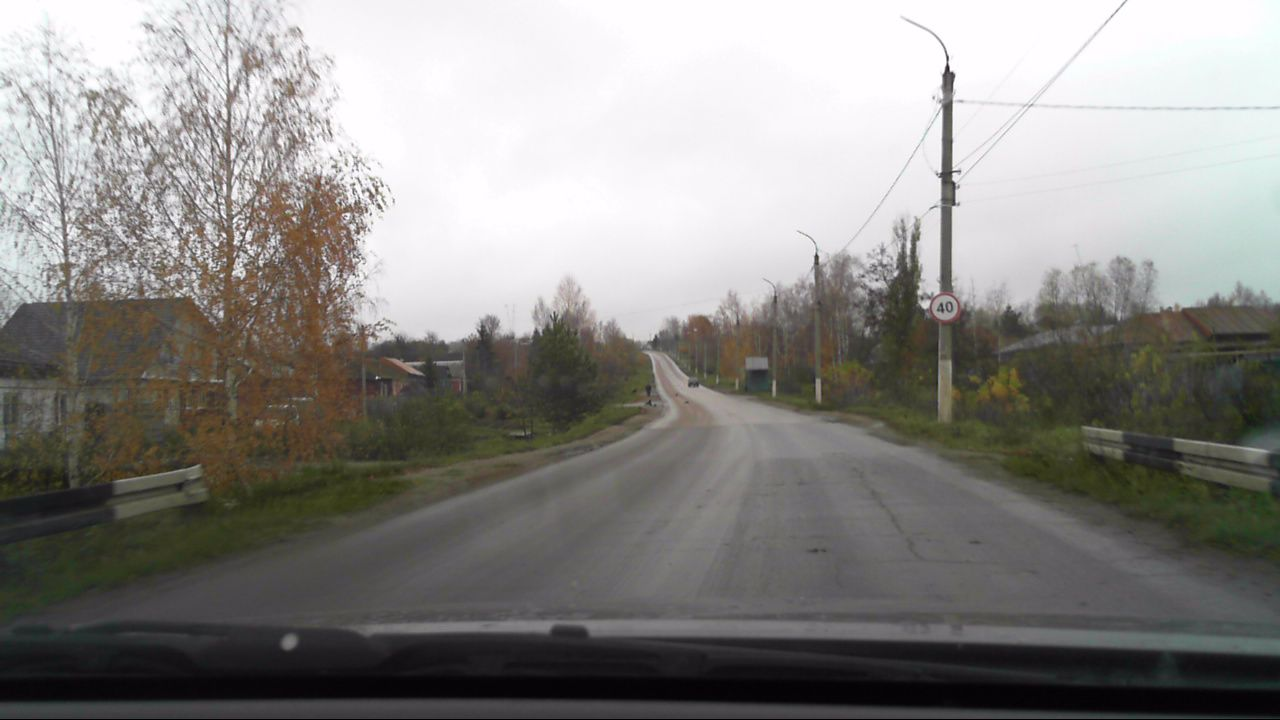speed_warning_40: (930, 292, 961, 322)
